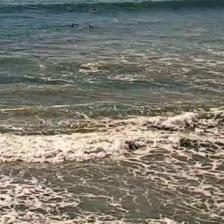surfer: (90, 8, 99, 12), (88, 24, 94, 30), (70, 23, 77, 28), (147, 0, 153, 2), (94, 0, 102, 1)
